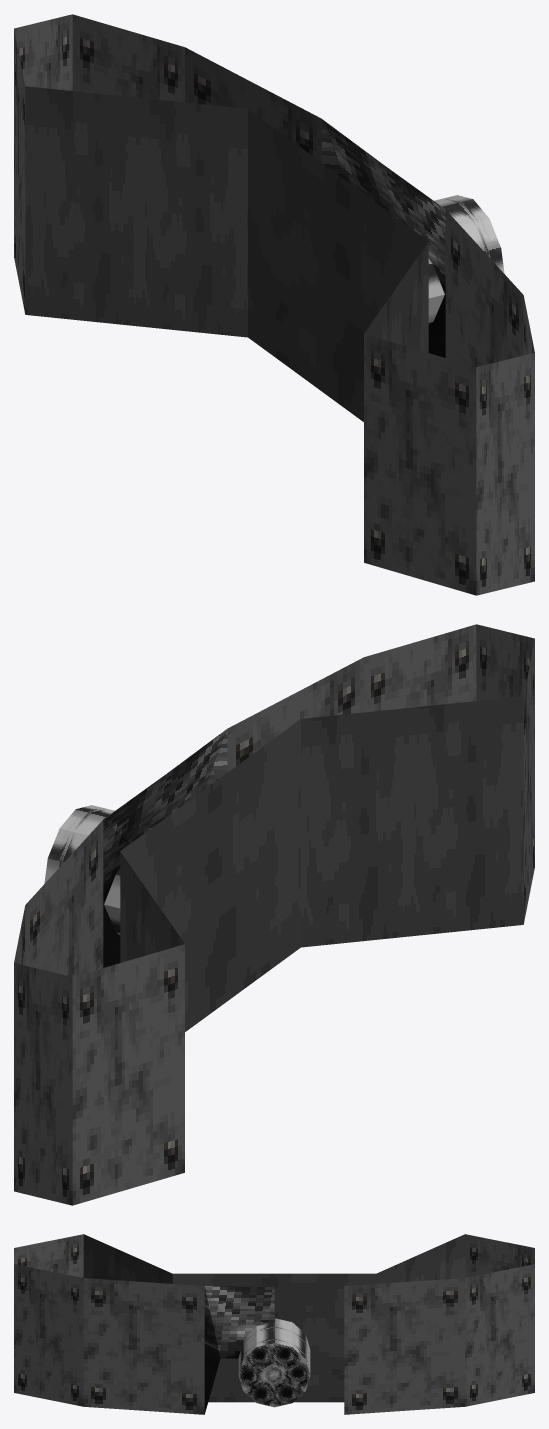
Rendered from primary_33.glb.
3 renders of one model, top to bottom at view 1: azimuth 30°, elevation 25°; view 2: azimuth 150°, elevation 25°; view 3: azimuth 270°, elevation 25°, orthographic. The views are drawn at different scales.
Visible parts, largest first — view 1: Object; view 2: Object; view 3: Object.
Boxes of the visible parts, bbox=[...] form: Object: bbox=[14, 14, 534, 595]; Object: bbox=[14, 624, 534, 1205]; Object: bbox=[14, 1234, 534, 1414].
Size of the model in its own units: 1.45 by 1.14 by 4.17.
16 materials, 16 textured.
